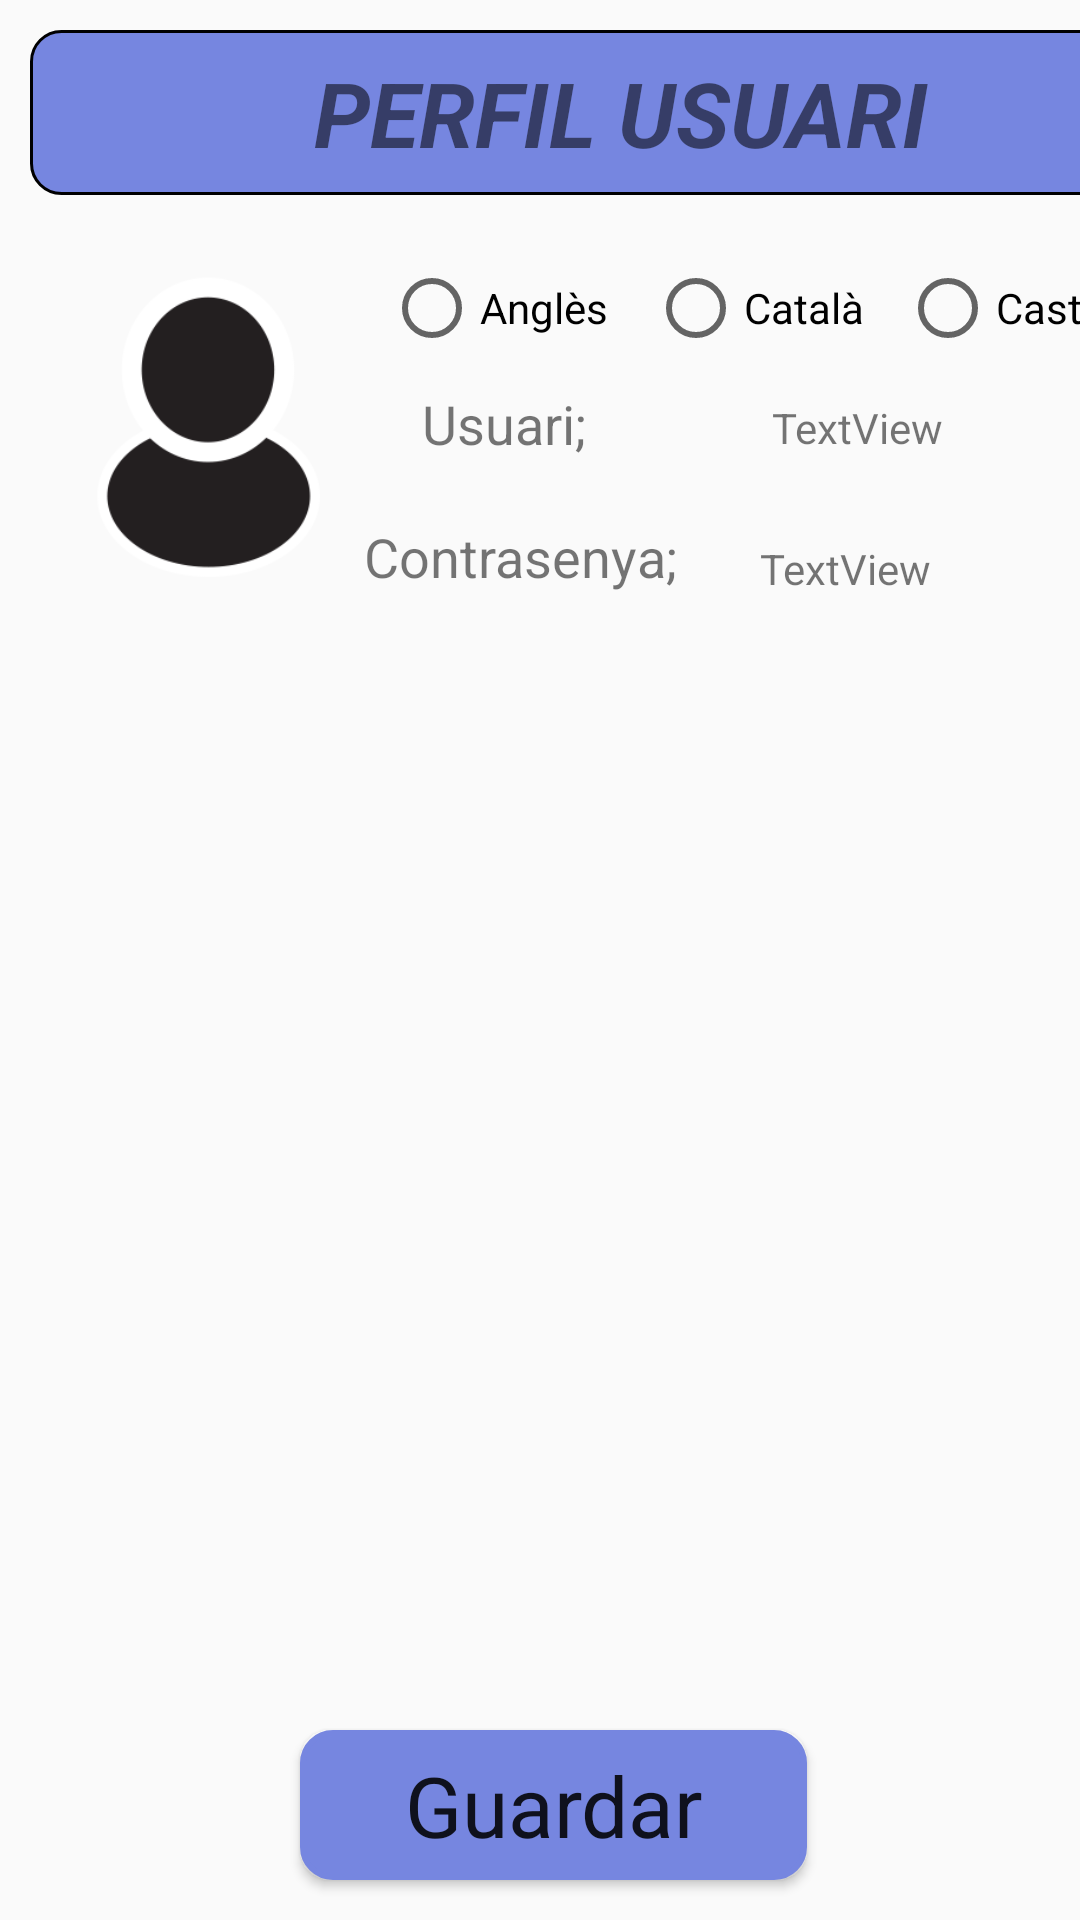

Named icons in this screenshot (1080px×1920px) and their centers, [x,y]:
persona: [208,432]
